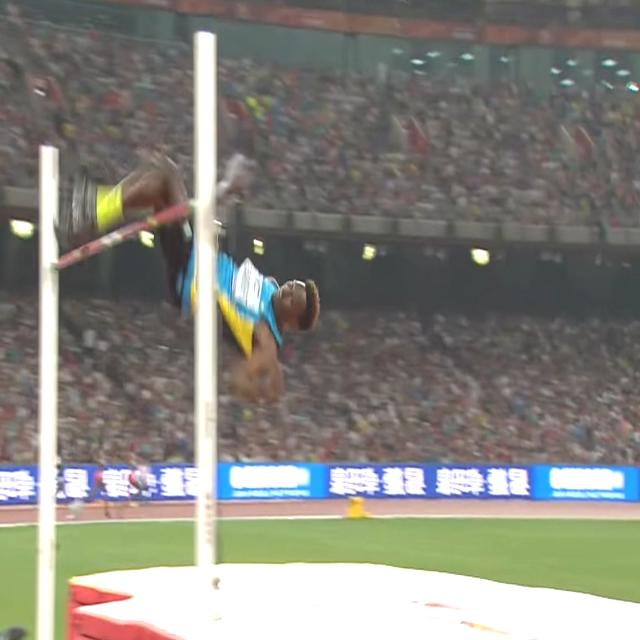land: (52, 160, 319, 397)
